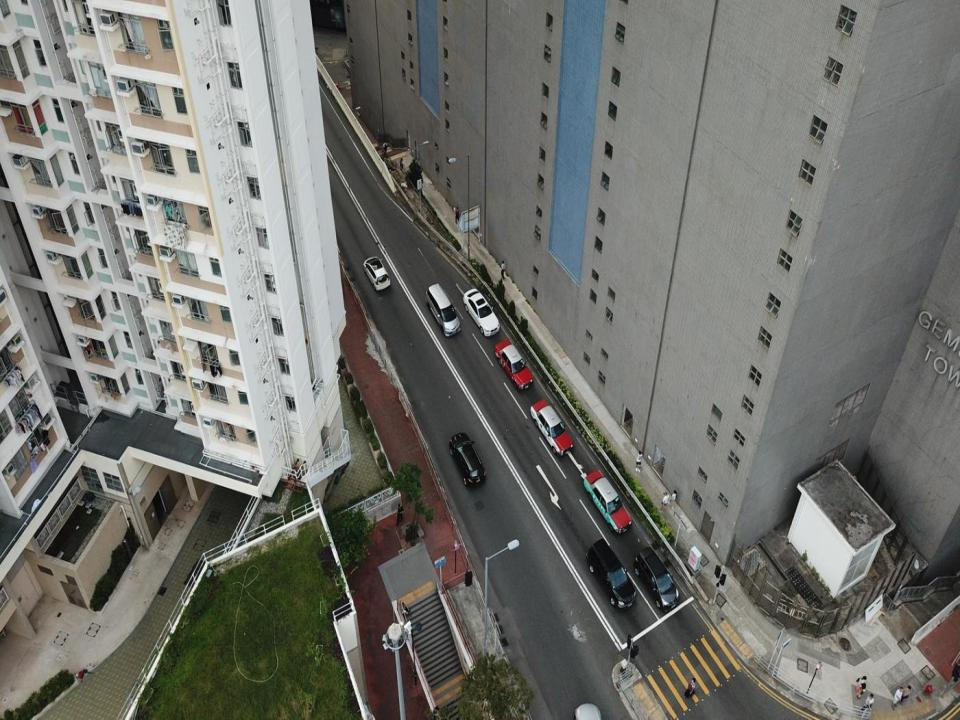car: (582, 468, 634, 534), (529, 398, 574, 456), (448, 432, 487, 490), (494, 339, 533, 389), (463, 289, 500, 335), (364, 257, 392, 293)
van: (585, 538, 638, 611), (634, 548, 680, 610), (426, 283, 461, 338)
